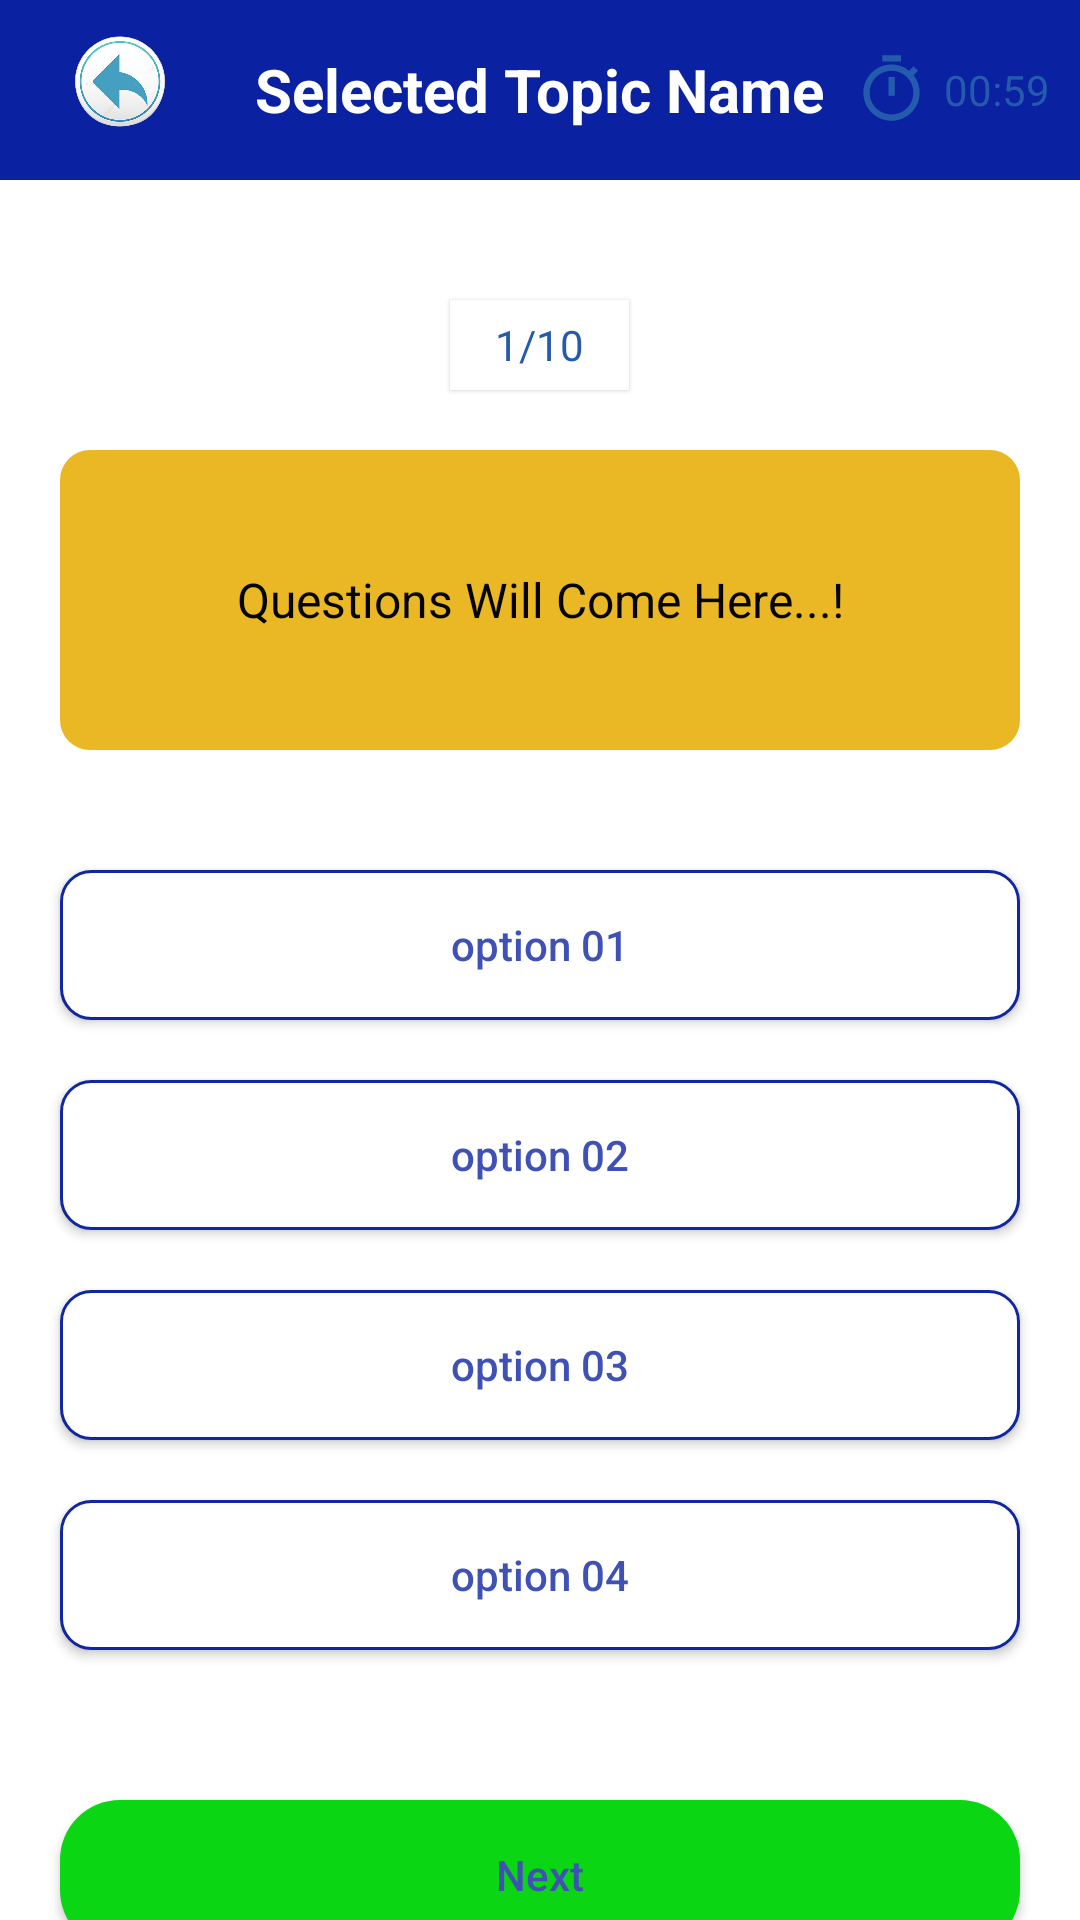

Point at icon controls on the screen. Image size 1080 × 1920, points as [x,y].
back: [120,81]
timer: [891,88]
